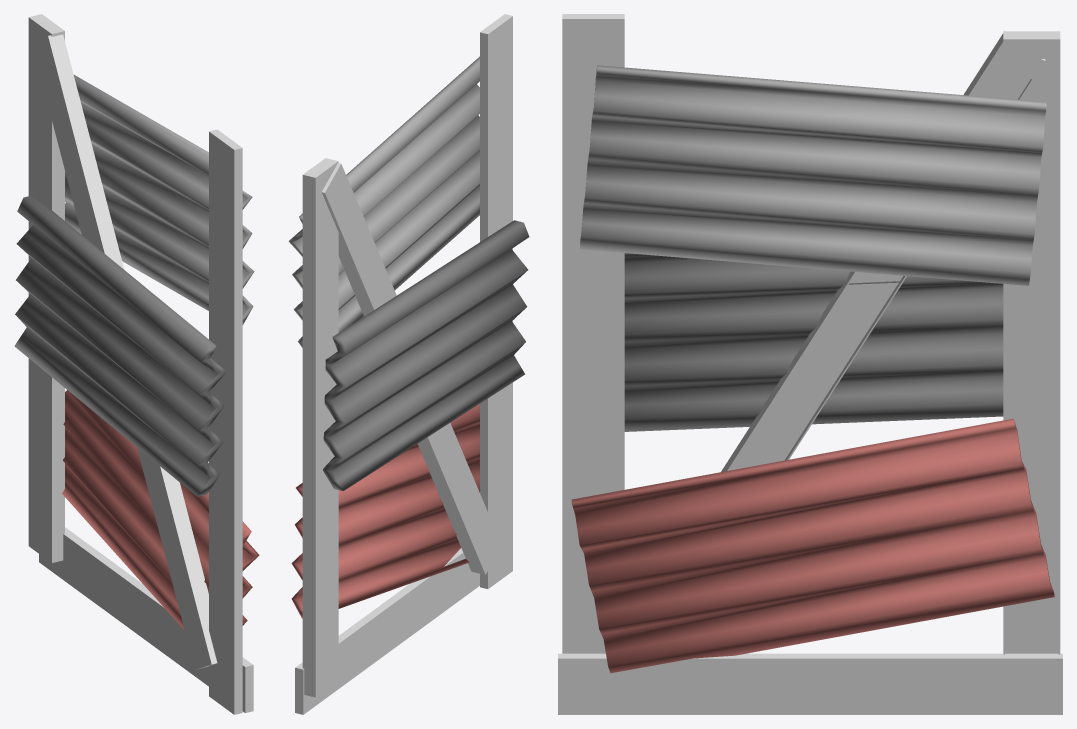
The model's file is ScrapyardFenceP2.fbx.
3 renders of one model, left to right at view 1: azimuth 30°, elevation 25°; view 2: azimuth 150°, elevation 25°; view 3: azimuth 270°, elevation 25°, orthographic. The views are drawn at different scales.
Visible parts, largest first — view 1: FenceP5.003, FenceP5.001, FenceP2.001, FenceP5.002, FenceP1.001, FenceP4.001, FenceP3.001; view 2: FenceP5.003, FenceP5.001, FenceP4.001, FenceP5.002, FenceP2.001, FenceP1.001, FenceP3.001; view 3: FenceP5.001, FenceP5.002, FenceP5.003, FenceP3.001, FenceP2.001, FenceP4.001, FenceP1.001.
Boxes of the visible parts, x1,y1,x2,y2 form: FenceP5.003: (14, 195, 225, 496); FenceP5.001: (65, 75, 254, 324); FenceP2.001: (209, 129, 242, 714); FenceP5.002: (62, 390, 259, 629); FenceP1.001: (31, 34, 217, 669); FenceP4.001: (28, 14, 64, 562); FenceP3.001: (39, 527, 253, 712); FenceP5.003: (323, 220, 529, 490); FenceP5.001: (288, 56, 479, 347); FenceP4.001: (302, 158, 338, 697); FenceP5.002: (291, 404, 480, 618); FenceP2.001: (480, 14, 512, 588); FenceP1.001: (321, 163, 501, 574); FenceP3.001: (295, 548, 479, 714); FenceP5.001: (579, 65, 1046, 285); FenceP5.002: (571, 418, 1054, 672); FenceP5.003: (624, 253, 1003, 431); FenceP3.001: (558, 653, 1062, 714); FenceP2.001: (562, 14, 624, 653); FenceP4.001: (1003, 31, 1060, 654); FenceP1.001: (721, 31, 1045, 471).
Bounding box in the file's own units: 22.02 × 200 × 132.
